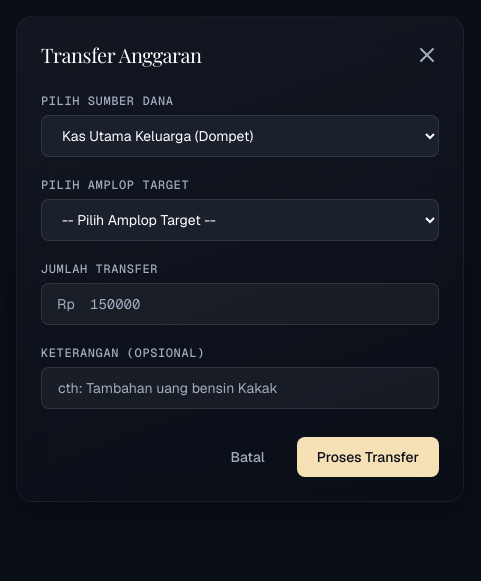
Test case: TransferModal Presentation Component › displays API error if transferBalance fails
Select "Amplop: Makanan (Saldo: Rp 100.000)" in the dropdown labelled "Pilih Sumber Dana": (240, 136) [41,115,439,157]
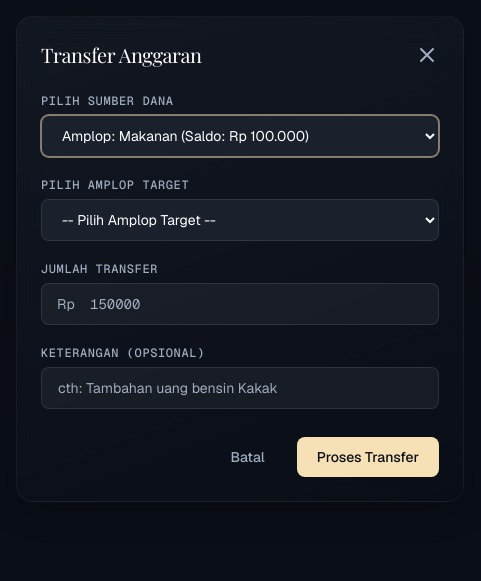
Select "Bensin (Saldo: Rp 50.000)" in the dropdown labelled "Pilih Amplop Target": (240, 220) [41,199,439,241]
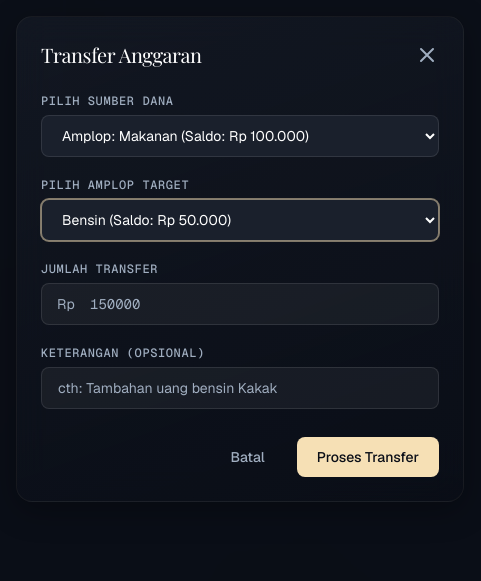
In the number field labelled "Jumlah Transfer": (240, 304) [41,283,439,325], type "200000"
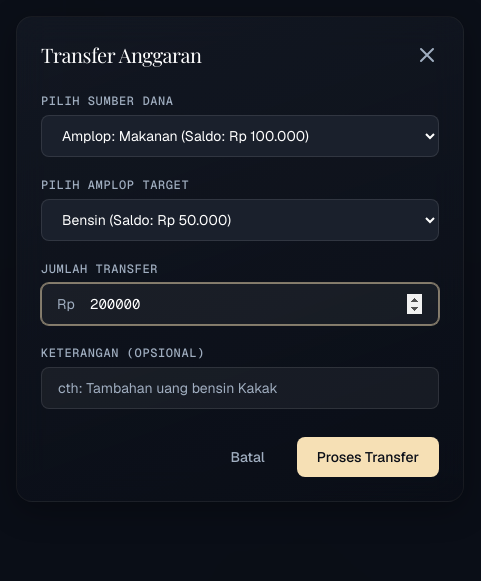
Click the button "Proses Transfer": (368, 457) [297,437,439,477]
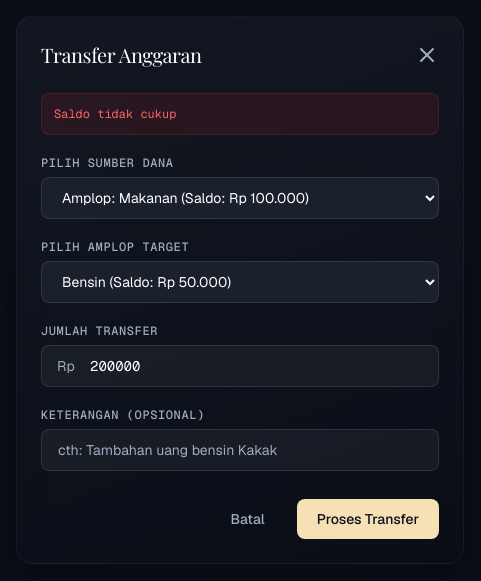
expect the text "Saldo tidak cukup" is shown: met, box [41,93,439,135]
